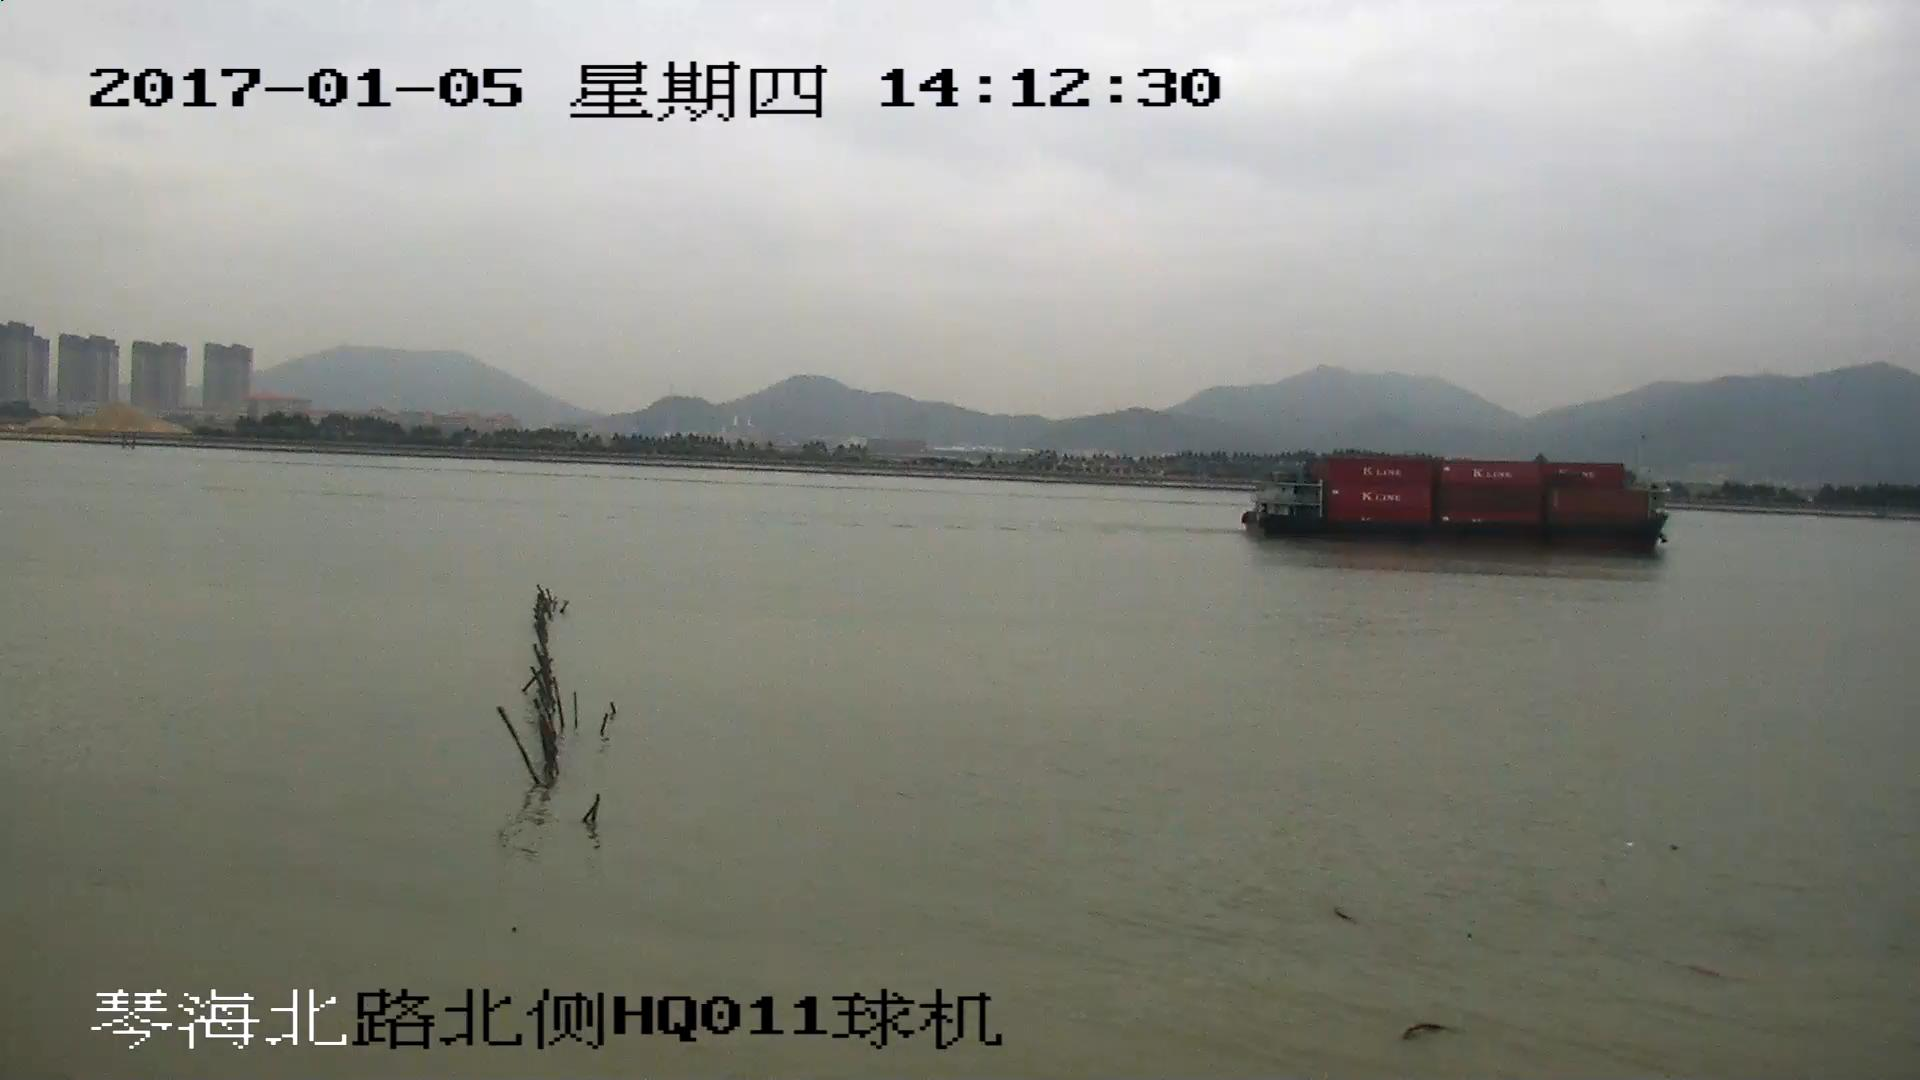container ship: (1246, 453, 1666, 555)
